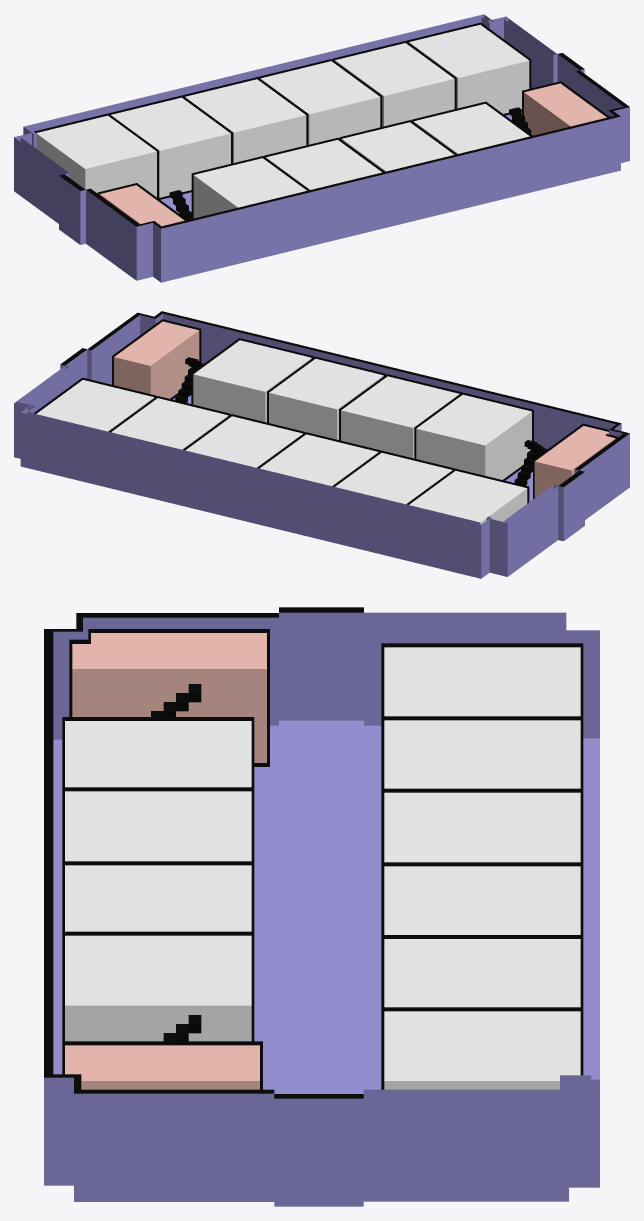
The picture shows the model from 3 angles, top to bottom: view 1: azimuth 30°, elevation 25°; view 2: azimuth 150°, elevation 25°; view 3: azimuth 270°, elevation 25°; orthographic projection. The views are drawn at different scales.
Parts seen in each view (by area): view 1: object, room_7_3_6, room_7_3_5, room_7_3_1, room_7_3_4, room_7_3_2, room_7_3_3, room_7_3_10, room_7_3_7, room_7_3_9, room_7_3_8, トイレ_7_3_1 (+8 smaller); view 2: object, room_7_3_10, room_7_3_7, room_7_3_9, room_7_3_8, トイレ_7_3_1, room_7_3_6, room_7_3_4, room_7_3_1, room_7_3_3, room_7_3_2, room_7_3_5 (+9 smaller); view 3: object, room_7_3_7, トイレ_7_3_2, room_7_3_1, room_7_3_4, room_7_3_6, room_7_3_5, room_7_3_3, room_7_3_2, room_7_3_9, room_7_3_10, room_7_3_8 (+13 smaller).
Boxes of the visible parts, box(x1,y1,x2,y2) form: object: box(14, 14, 629, 282); room_7_3_6: box(36, 115, 156, 197); room_7_3_5: box(111, 97, 230, 197); room_7_3_1: box(409, 24, 529, 113); room_7_3_4: box(185, 79, 306, 163); room_7_3_2: box(335, 43, 454, 126); room_7_3_3: box(260, 61, 380, 144); room_7_3_10: box(193, 158, 306, 218); room_7_3_7: box(413, 104, 529, 153); room_7_3_9: box(266, 140, 381, 189); room_7_3_8: box(341, 122, 454, 171); トイレ_7_3_1: box(524, 83, 606, 135); object: box(14, 311, 629, 578); room_7_3_10: box(416, 394, 531, 479); room_7_3_7: box(193, 340, 311, 422); room_7_3_9: box(341, 376, 459, 458); room_7_3_8: box(269, 358, 383, 439); トイレ_7_3_1: box(114, 321, 199, 398); room_7_3_6: box(409, 470, 527, 524); room_7_3_4: box(260, 434, 378, 485); room_7_3_1: box(36, 380, 154, 431); room_7_3_3: box(185, 416, 302, 467); room_7_3_2: box(111, 398, 228, 449); room_7_3_5: box(335, 452, 452, 504); object: box(44, 607, 599, 1206); room_7_3_7: box(65, 935, 251, 1041); トイレ_7_3_2: box(72, 633, 266, 762); room_7_3_1: box(384, 1011, 580, 1089); room_7_3_4: box(384, 792, 580, 862); room_7_3_6: box(384, 647, 580, 716); room_7_3_5: box(384, 720, 580, 788); room_7_3_3: box(384, 866, 580, 934); room_7_3_2: box(384, 939, 580, 1007); room_7_3_9: box(65, 791, 251, 861); room_7_3_10: box(65, 721, 251, 787); room_7_3_8: box(65, 865, 251, 931).
Size of the model in its own units: 2.04 by 0.2097 by 0.9785.
